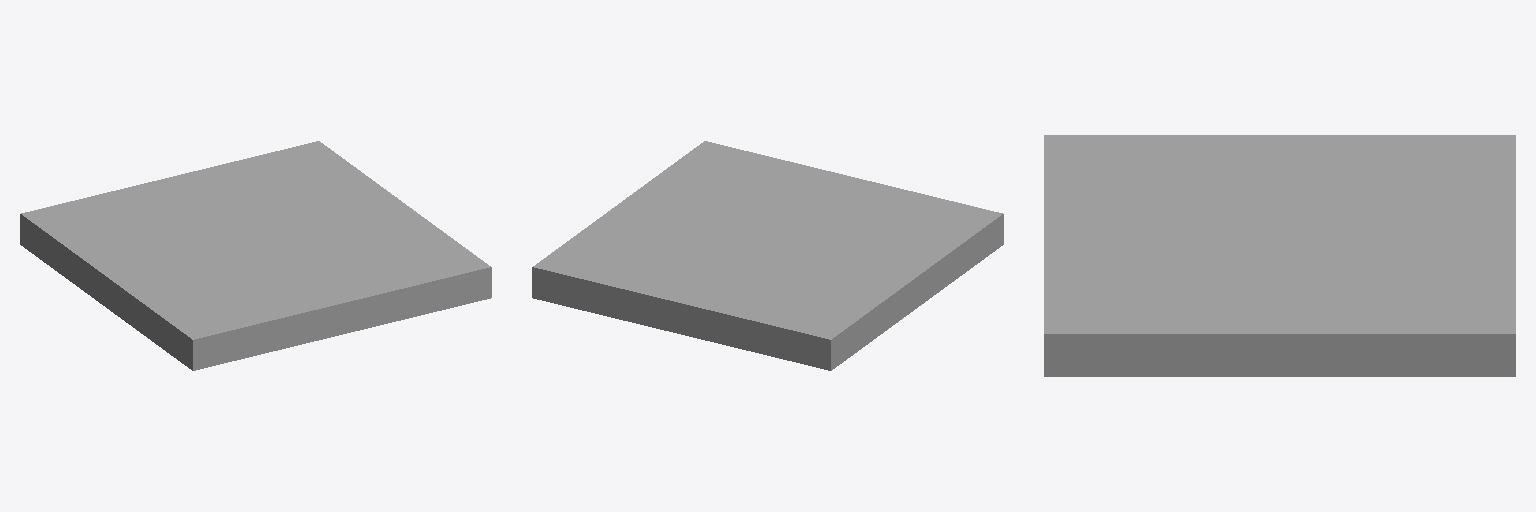
The robot description file, URDF, robot "ground_skeleton":
<?xml version="1.0"?>
<robot name="ground_skeleton">
    <link name="world" />
    <link name="ground_link">
        <inertial>
            <mass value="0.00001" />
            <origin xyz="0 0 0" rpy="0 0 0" />
            <inertia ixx="1.0" ixy="0" ixz="0" iyy="1.0" iyz="0" izz="1.0" />
        </inertial>
        <visual>             
            <origin xyz="0 0 0" rpy="0 0 0" />
            <material name="green"><color rgba="0.7 0.7 0.7 1"/></material>
            <geometry>
                <box size="10 10 1" />
                <color rgba="0.99 0.99 0.7 0.3"/> 
            </geometry>
        </visual> 
        <collision>
            <origin xyz="0 0 0" rpy="0 0 0" />
            <geometry>
                <box size="10 10 1" />
            </geometry>
        </collision>
    </link>
    <joint name="ground_joint" type="fixed">
        <origin xyz="0 0 -0.5" rpy="0 0 0" />
        <parent link="world" />
        <child link="ground_link" />
    </joint>
</robot>

--- What the picture shows (computed from the rendered views, not written in the file) ---
Views: 3 orthographic renders of the robot side by side, from view 1: azimuth 30°, elevation 25°; view 2: azimuth 150°, elevation 25°; view 3: azimuth 270°, elevation 25°.
Model ground_skeleton with 2 links and 1 joints (1 fixed), rooted at world, posed all joints at 0.
Visible links, largest first — view 1: ground_link; view 2: ground_link; view 3: ground_link.
Link boxes in pixels (box(x1,y1,x2,y2)): ground_link: box(20, 141, 491, 370); ground_link: box(532, 141, 1003, 370); ground_link: box(1044, 135, 1515, 376).
Size in the robot's own frame: 10 by 10 by 1 metres.
Geometry: primitives only (box / cylinder / sphere), no mesh files.